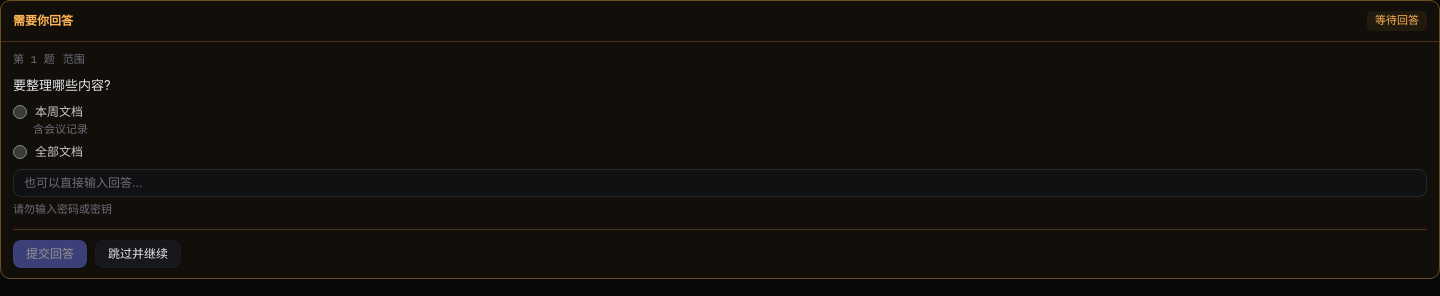
QuestionCard › 单选题选择后提交回答并锁定
The image size is (1440, 296).
Check: the text "需要你回答" is shown, box left=13, top=12, right=73, bottom=30
Check: the button "提交回答" is disabled, box left=13, top=240, right=87, bottom=268
Click the radio button labelled "本周文档" at (20, 112), box left=13, top=104, right=27, bottom=118
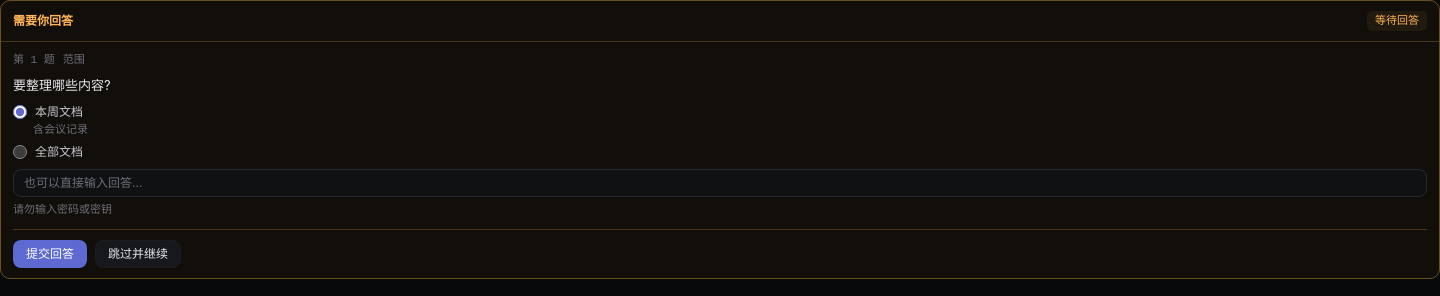
Check: the button "提交回答" is enabled
Click the button "提交回答" at (50, 254), box left=13, top=240, right=87, bottom=268
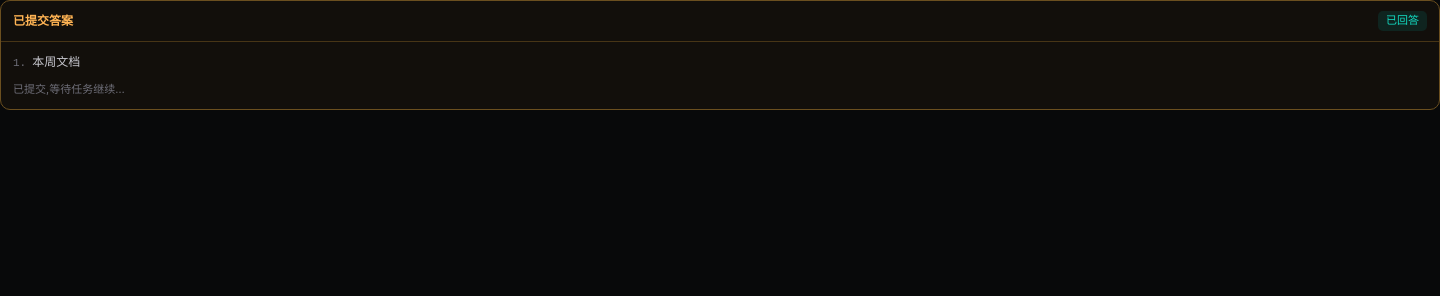
Check: the text "已提交答案" is shown, box left=13, top=12, right=73, bottom=30
Check: the text "已提交,等待任务继续…" is shown, box left=13, top=82, right=125, bottom=96
Check: the button "提交回答" is gone
